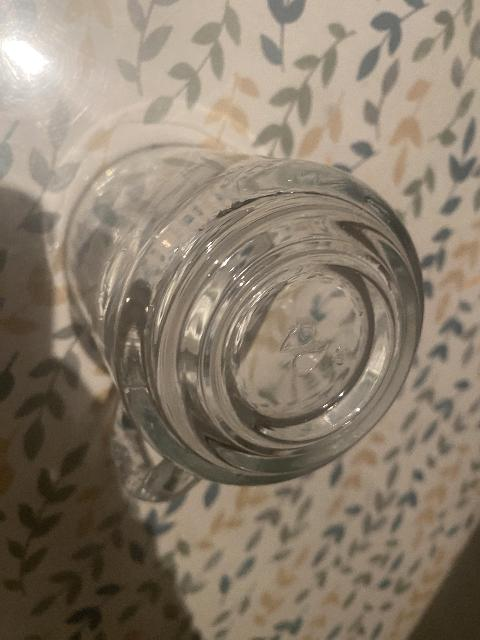Cam: (63, 139, 427, 509)
